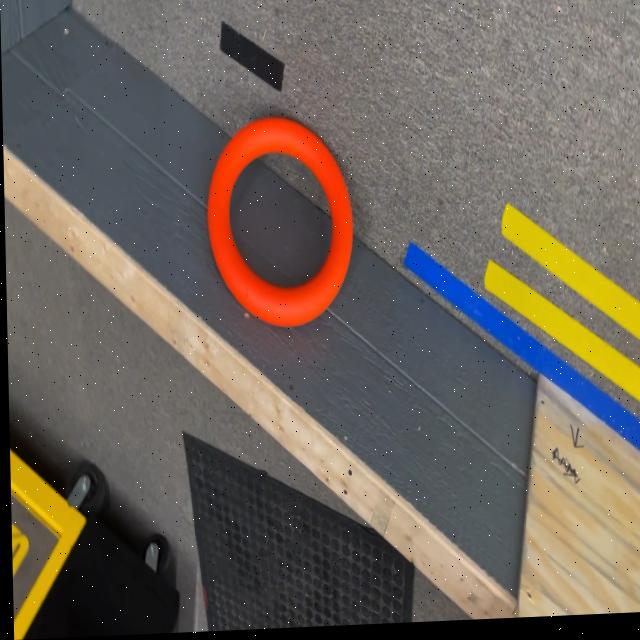note: (204, 117, 353, 331)
